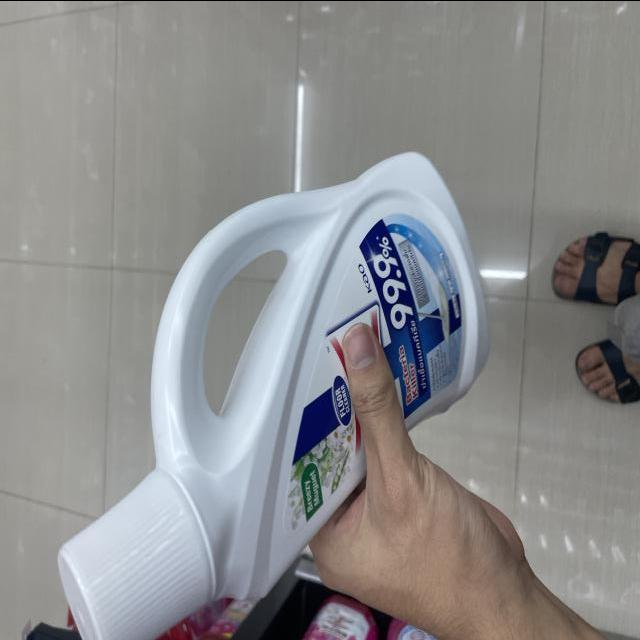HDPE Plastic: (46, 153, 487, 628)
